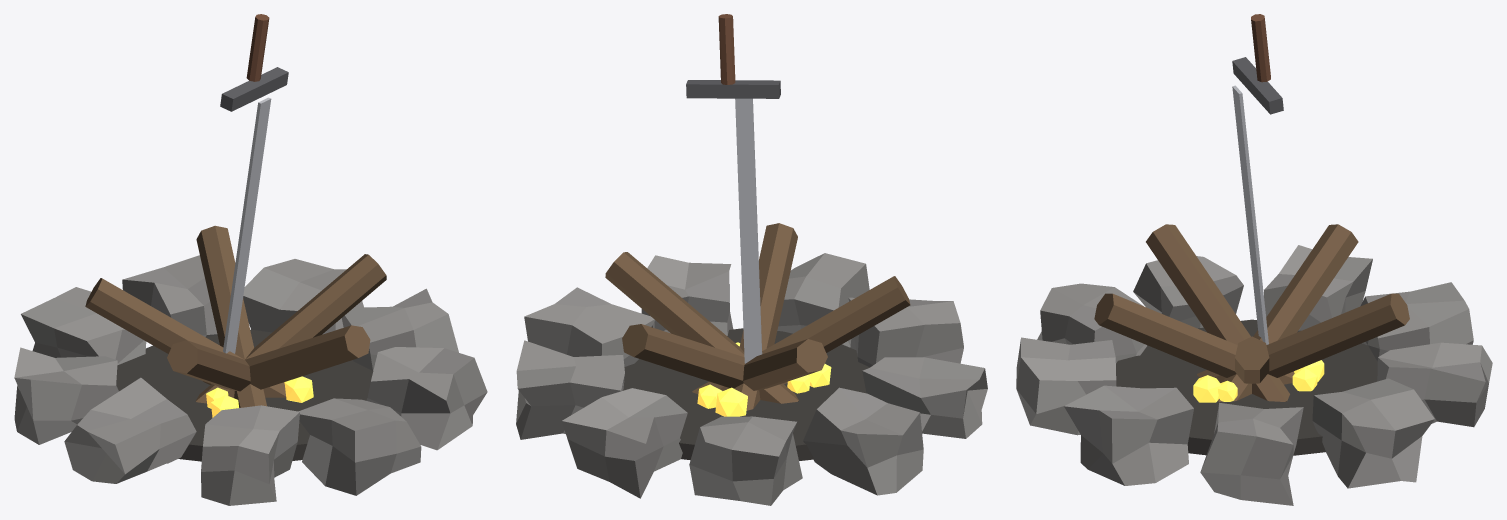
The model's file is bonfire.glb.
The picture shows the model from 3 angles, left to right: view 1: azimuth 30°, elevation 25°; view 2: azimuth 150°, elevation 25°; view 3: azimuth 270°, elevation 25°; orthographic projection. The views are drawn at different scales.
Visible parts, largest first — view 1: Cube.005, Cube.007, Cube.008, Cube.006, Cube.004, Cone, Cube.003, Cube, Cone.001, Cube.001, Cube.002, Cone.005 (+7 smaller); view 2: Cube.004, Cube.002, Cube.003, Cone, Cube.005, Cube.001, Cube, Cube.006, Cone.001, Cube.009, Cube.007, Cone.002 (+7 smaller); view 3: Cube.008, Cube.001, Cone, Cube, Cube.007, Cube.002, Cone.002, Cone.004, Cone.005, Cone.003, Cube.003, Cube.006 (+7 smaller).
Part boxes in pixels (<box>): Cube.005: <box>64,377,196,483</box>; Cube.007: <box>298,398,421,495</box>; Cube.008: <box>366,347,487,450</box>; Cube.006: <box>201,405,299,505</box>; Cube.004: <box>14,347,118,444</box>; Cone: <box>116,329,373,461</box>; Cube.003: <box>21,287,146,365</box>; Cube: <box>341,288,458,370</box>; Cone.001: <box>195,254,386,403</box>; Cube.001: <box>243,259,363,334</box>; Cube.002: <box>122,255,217,336</box>; Cone.005: <box>202,325,370,389</box>; Cube.004: <box>803,387,923,495</box>; Cube.002: <box>561,388,687,498</box>; Cube.003: <box>689,416,802,505</box>; Cone: <box>623,328,869,460</box>; Cube.005: <box>862,357,987,438</box>; Cube.001: <box>516,340,624,439</box>; Cube: <box>524,287,655,366</box>; Cube.006: <box>848,297,963,367</box>; Cone.001: <box>605,252,798,403</box>; Cube.009: <box>735,98,762,363</box>; Cube.007: <box>777,253,869,347</box>; Cone.002: <box>622,324,787,388</box>; Cube.008: <box>1064,385,1193,485</box>; Cube.001: <box>1312,378,1434,488</box>; Cone: <box>1116,319,1377,455</box>; Cube: <box>1200,402,1303,505</box>; Cube.007: <box>1016,337,1116,435</box>; Cube.002: <box>1377,342,1492,427</box>; Cone.002: <box>1197,293,1409,382</box>; Cone.004: <box>1146,224,1289,401</box>; Cone.005: <box>1094,293,1294,384</box>; Cone.003: <box>1217,224,1358,401</box>; Cube.003: <box>1360,282,1473,361</box>; Cube.006: <box>1037,283,1146,363</box>.
Bounding box in the file's own units: 1.6 × 1.51 × 1.61.
